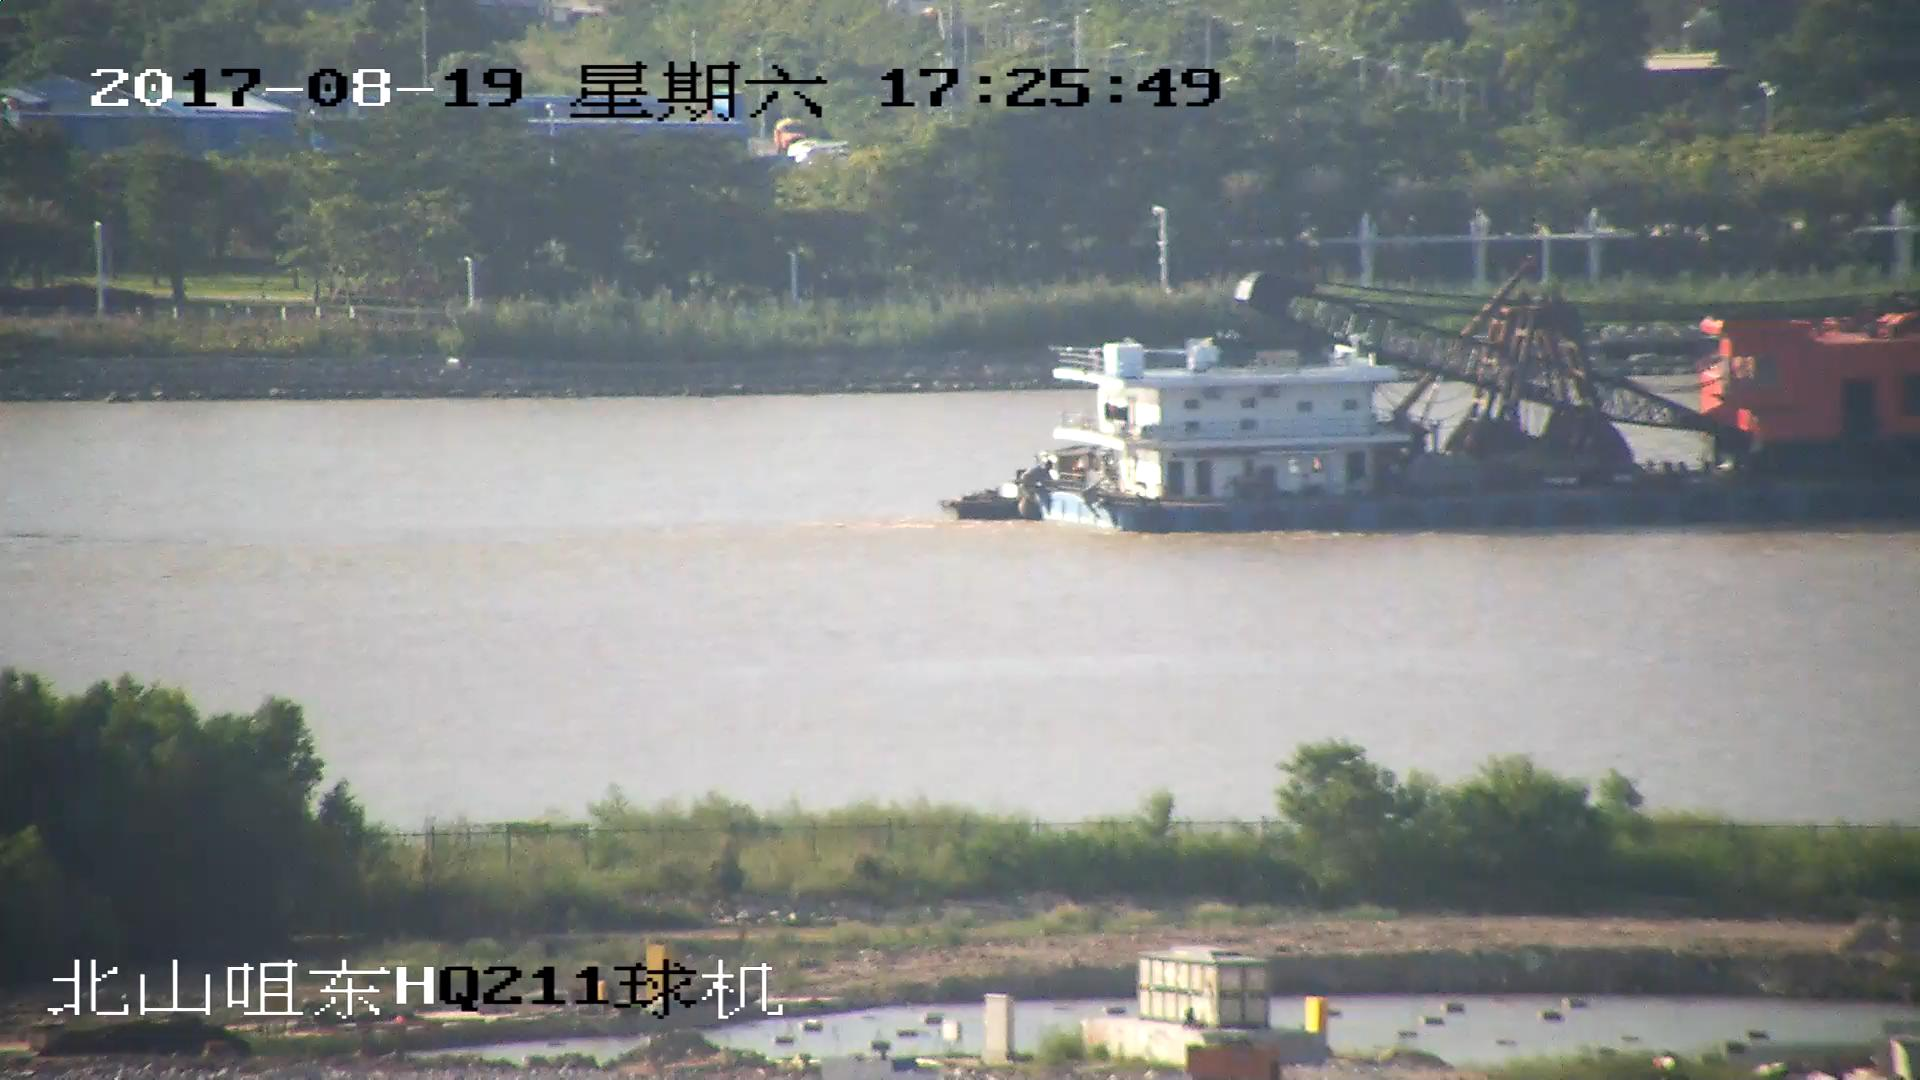fishing boat: (944, 266, 1920, 538)
